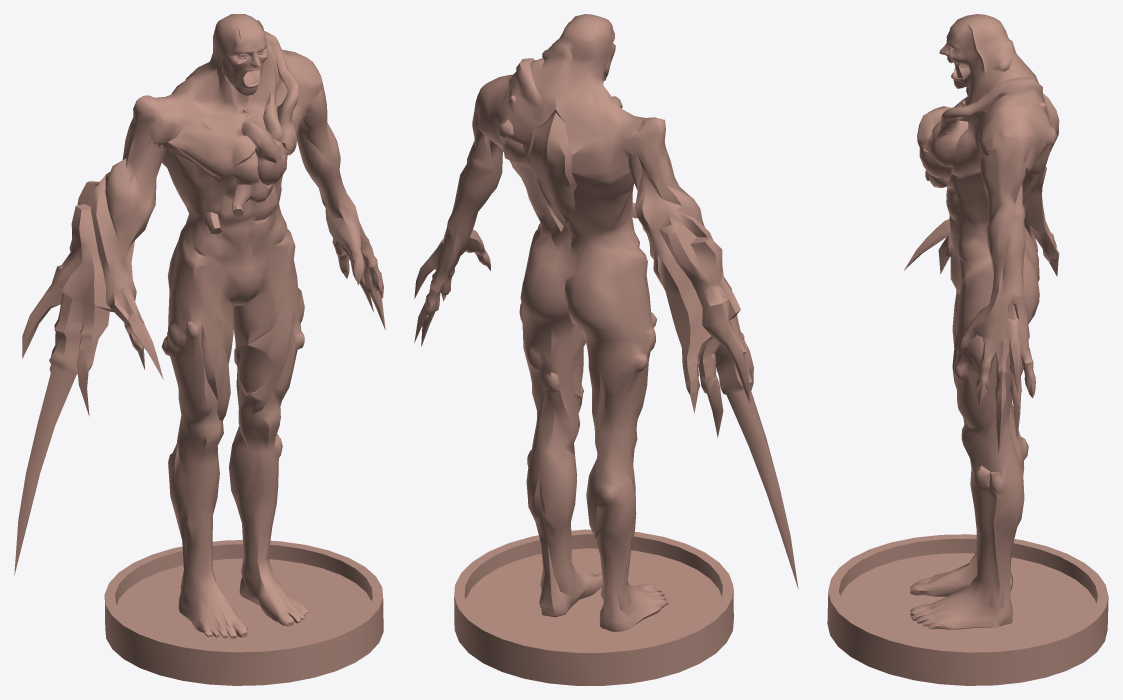
Rendered from modelo.glb.
3 renders of one model, left to right at view 1: azimuth 30°, elevation 25°; view 2: azimuth 150°, elevation 25°; view 3: azimuth 270°, elevation 25°, orthographic.
Visible parts, largest first — view 1: Object_2; view 2: Object_2; view 3: Object_2.
Part boxes in pixels (x1,y1,x2,y2): Object_2: (14, 14, 385, 685); Object_2: (414, 14, 798, 685); Object_2: (827, 14, 1108, 685).
Bounding box in the file's own units: 41.17 × 64.33 × 26.73.
